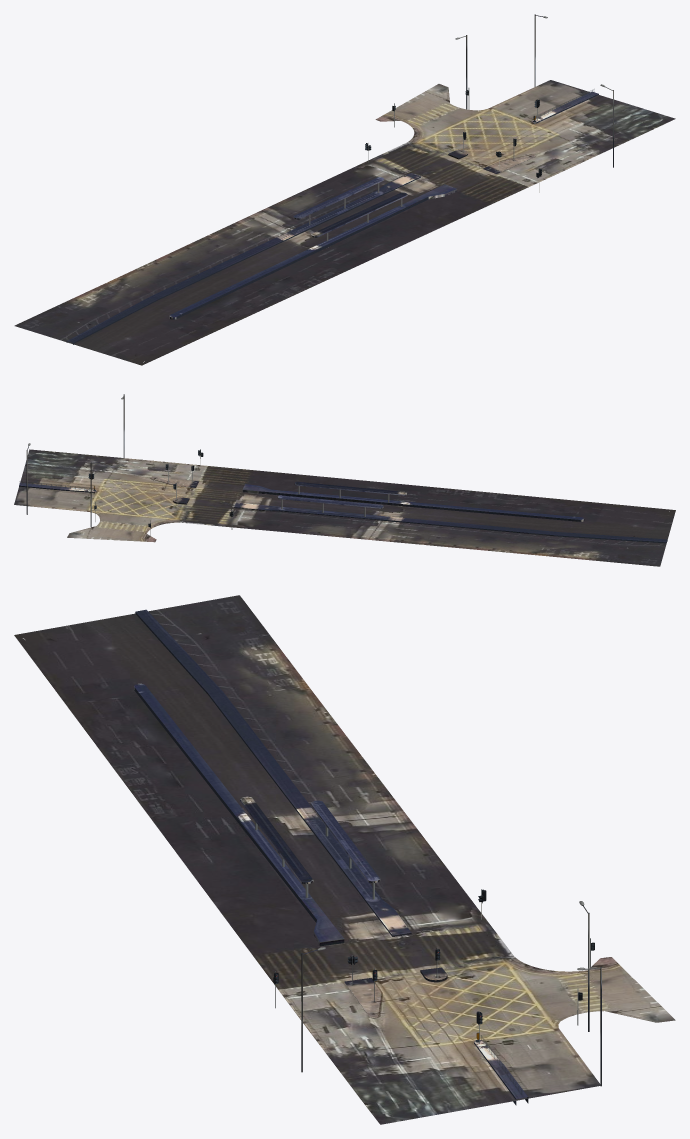
Rendered from tonnochy-road.glb.
The picture shows the model from 3 angles, top to bottom: view 1: azimuth 30°, elevation 25°; view 2: azimuth 150°, elevation 25°; view 3: azimuth 270°, elevation 25°; orthographic projection. The views are drawn at different scales.
Visible parts, largest first — view 1: tonnochy-road; view 2: tonnochy-road; view 3: tonnochy-road.
Boxes of the visible parts, box(x1,y1,x2,y2) form: tonnochy-road: box(14, 14, 675, 365); tonnochy-road: box(14, 394, 675, 566); tonnochy-road: box(14, 595, 675, 1124).
Bounding box in the file's own units: 125 × 13.32 × 65.93.
9 materials, 9 textured.
